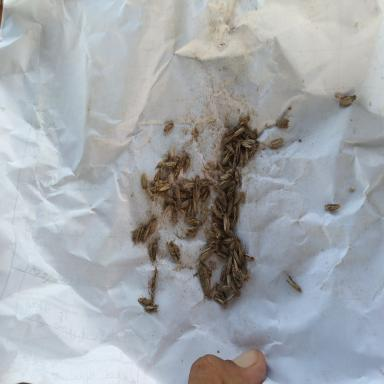pbw: (335, 94, 357, 107), (276, 113, 292, 129), (154, 153, 169, 170), (167, 155, 180, 174), (232, 139, 240, 169), (144, 212, 160, 227), (197, 262, 212, 277), (230, 126, 246, 140), (213, 293, 227, 309), (132, 226, 142, 248), (216, 190, 228, 208), (203, 225, 217, 240), (210, 204, 224, 219), (210, 222, 221, 240), (164, 193, 177, 208), (222, 125, 238, 137), (217, 282, 227, 301), (168, 245, 178, 263), (162, 161, 177, 173), (233, 249, 242, 268), (230, 280, 240, 297), (250, 139, 260, 156), (211, 215, 224, 228), (221, 154, 233, 168), (151, 242, 158, 266), (180, 150, 189, 168), (227, 195, 234, 218), (145, 186, 155, 202), (202, 187, 212, 203), (226, 184, 236, 200), (174, 162, 182, 182), (219, 265, 227, 285), (219, 176, 232, 188), (221, 133, 233, 146), (138, 294, 151, 306), (215, 200, 226, 214), (144, 304, 161, 313), (238, 243, 246, 262), (188, 216, 203, 226), (234, 169, 241, 190), (193, 174, 200, 195), (153, 169, 160, 190), (224, 294, 236, 306), (152, 263, 158, 287), (139, 172, 147, 190), (234, 191, 245, 204), (237, 116, 250, 127), (201, 204, 208, 224), (172, 243, 180, 260), (199, 179, 216, 187), (229, 236, 238, 251), (223, 212, 230, 231), (324, 204, 343, 211), (245, 128, 256, 140), (238, 148, 244, 170), (225, 142, 236, 154), (219, 243, 230, 255), (180, 198, 193, 208), (183, 156, 191, 172), (210, 282, 218, 298), (150, 220, 158, 236), (193, 186, 200, 204), (156, 183, 170, 192), (199, 186, 208, 200), (226, 256, 232, 276), (142, 226, 150, 241), (233, 277, 243, 289), (232, 204, 238, 224), (150, 286, 156, 306), (170, 209, 178, 224), (158, 165, 166, 180), (162, 203, 172, 215), (208, 238, 221, 247), (240, 139, 254, 147), (244, 268, 251, 284), (270, 140, 284, 148), (176, 204, 186, 215), (201, 246, 212, 256), (199, 251, 210, 261), (244, 147, 250, 165), (218, 173, 233, 180), (175, 184, 181, 201), (187, 202, 193, 219), (164, 122, 174, 132), (233, 256, 238, 276), (179, 182, 188, 193), (174, 192, 188, 199), (221, 238, 234, 245), (220, 285, 233, 292), (217, 161, 224, 174), (139, 226, 145, 241), (244, 253, 254, 262), (236, 235, 241, 253), (183, 182, 194, 190), (152, 180, 166, 186), (237, 265, 242, 281), (218, 252, 228, 260), (170, 144, 175, 160), (225, 228, 233, 238), (185, 226, 198, 232), (184, 231, 197, 237), (229, 216, 234, 231), (232, 262, 236, 280), (149, 242, 153, 260), (193, 200, 197, 216), (227, 273, 231, 289), (225, 168, 235, 174), (156, 192, 166, 198), (210, 248, 218, 253)
